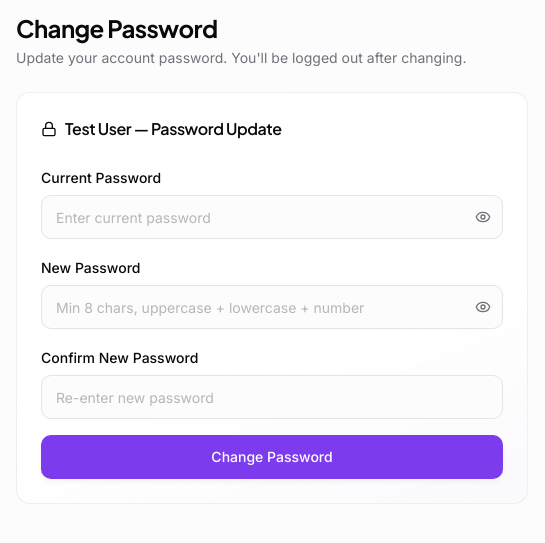
Test case: ChangePasswordPage › shows validation error for mismatched passwords
In the password field labelled "Current Password": [272, 217] box [41,195,503,239], type "OldPass123"
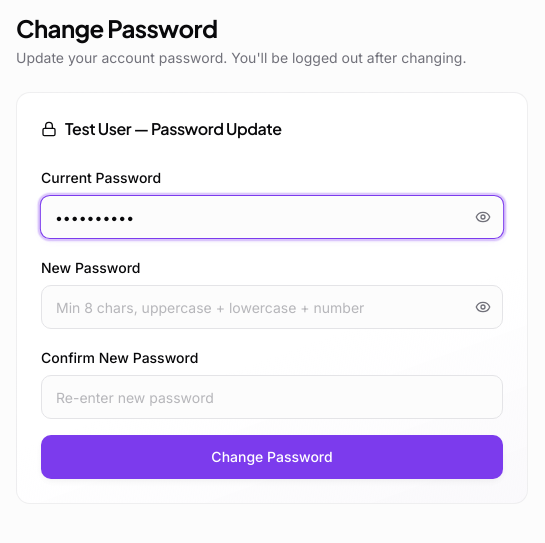
In the password field labelled "New Password": [272, 307] box [41,285,503,329], type "NewSecure1Pass"
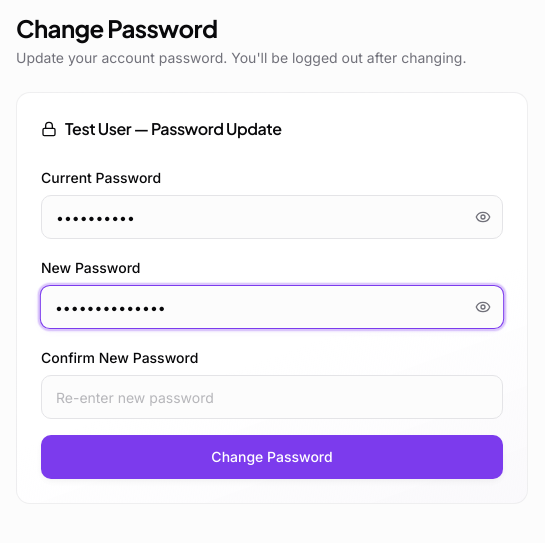
In the password field labelled "Confirm New Password": [272, 397] box [41,375,503,419], type "DifferentPass1"
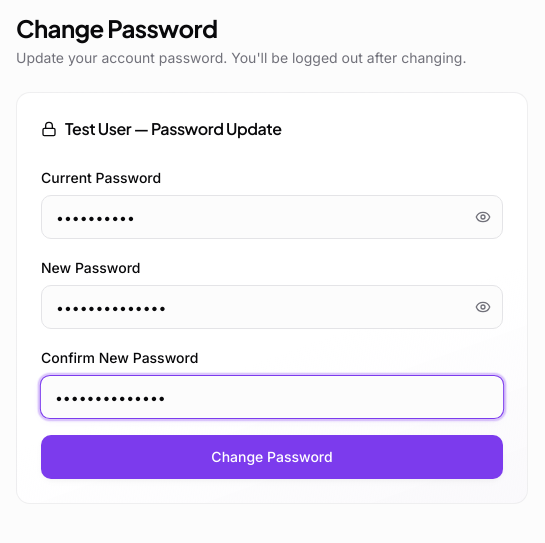
Click the button "Change Password": [272, 457] box [41,435,503,479]
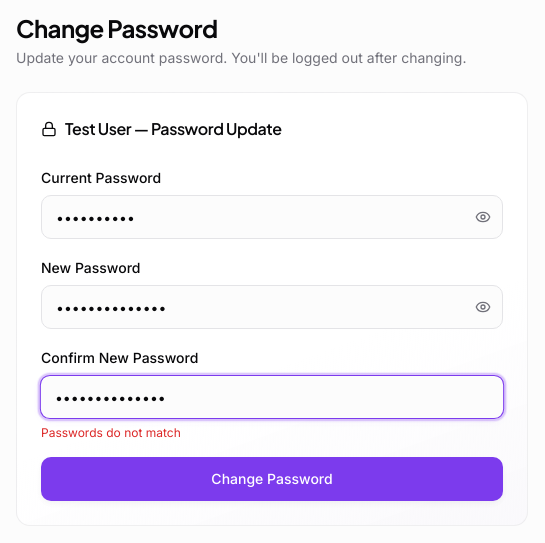
Expected: the text "Passwords do not match" is shown, [41,425,181,440]
